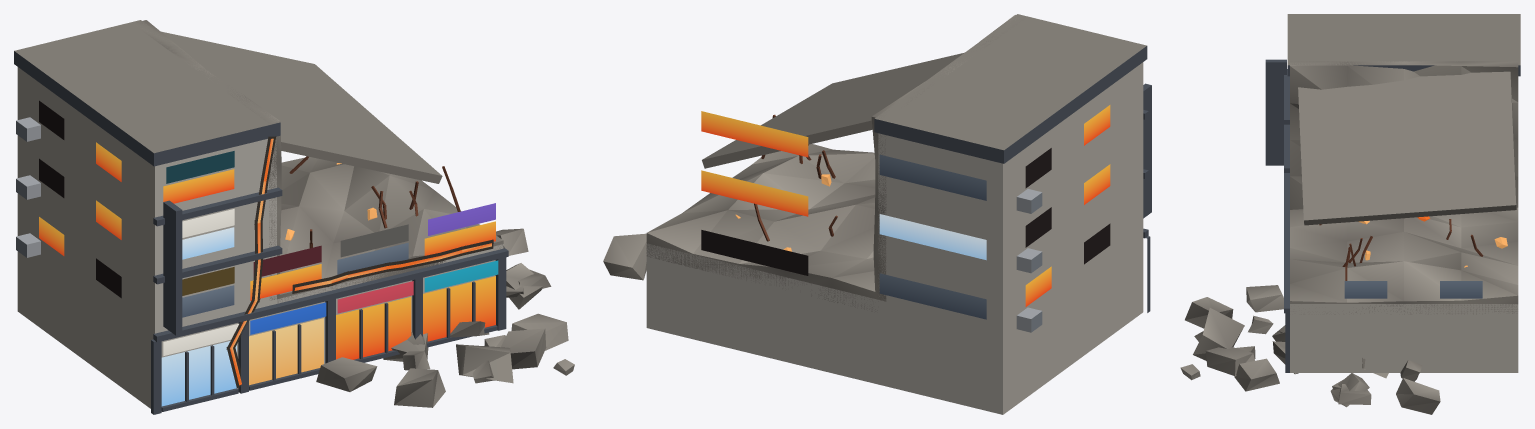
File: bld_com_A_collapsed.meshopt.glb
3 views of the same model, side by side, from view 1: azimuth 30°, elevation 25°; view 2: azimuth 150°, elevation 25°; view 3: azimuth 270°, elevation 25° (orthographic). The views are drawn at different scales.
Parts seen in each view (by area): view 1: bld_com_A_collapsed; view 2: bld_com_A_collapsed; view 3: bld_com_A_collapsed.
Part boxes in pixels (box(x1,y1,x2,y2)): bld_com_A_collapsed: box(14, 20, 574, 414); bld_com_A_collapsed: box(603, 14, 1151, 414); bld_com_A_collapsed: box(1180, 14, 1520, 414).
Bounding box in the file's own units: 28.91 × 16.66 × 22.35.
